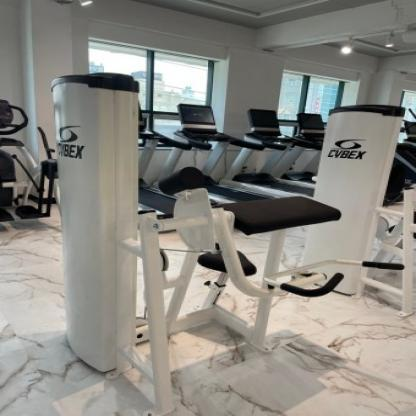arm curl machine: (59, 196, 405, 379)
